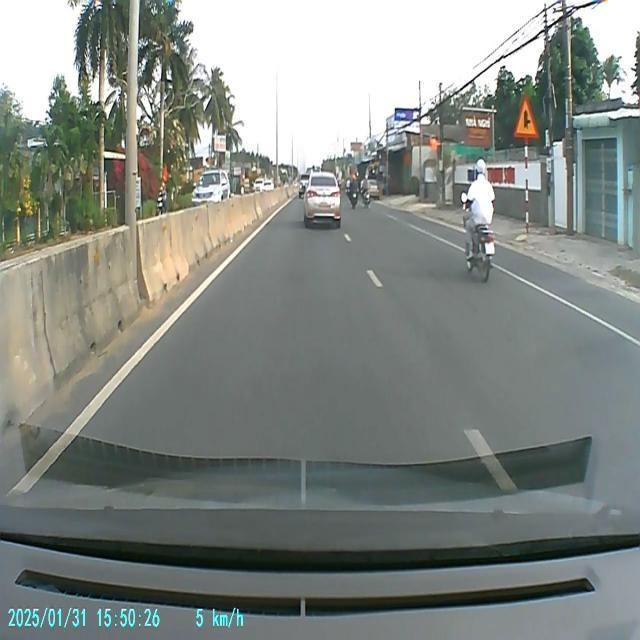207-giao-nhau-voi-duong-khong-uu-tien: (512, 94, 540, 140)
